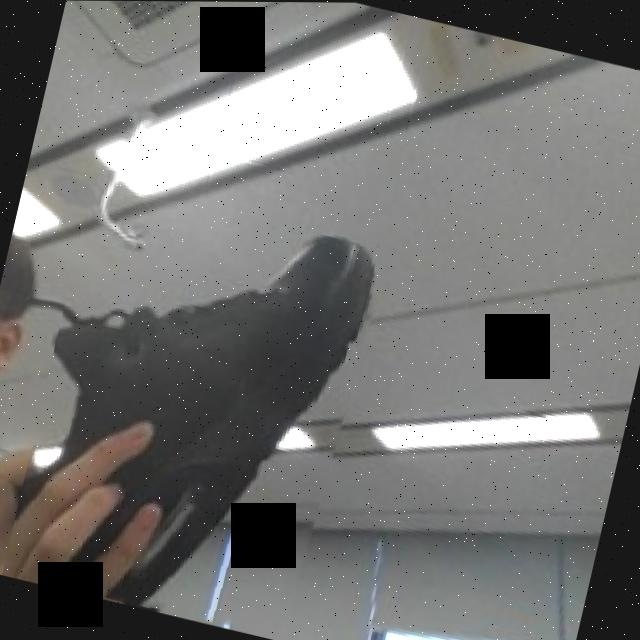shoe: (1, 179, 390, 640)
